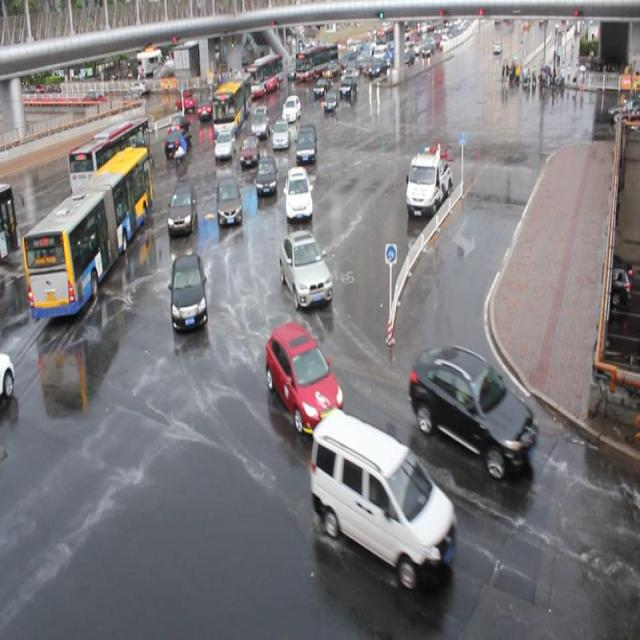bus: (404, 148, 452, 216)
car: (408, 344, 538, 480), (265, 320, 343, 433), (278, 228, 332, 306), (170, 253, 208, 330), (167, 182, 197, 232), (284, 166, 313, 217), (215, 174, 242, 224), (255, 154, 278, 193), (295, 122, 317, 162), (164, 128, 192, 154), (250, 106, 271, 138), (214, 129, 237, 158), (239, 135, 260, 165), (272, 119, 291, 148), (166, 114, 191, 136), (282, 95, 300, 122), (174, 90, 195, 113), (338, 75, 358, 96), (323, 87, 339, 111), (313, 76, 332, 95), (196, 98, 212, 120)
truck: (310, 409, 456, 589)
van: (22, 144, 154, 318), (68, 116, 151, 210), (212, 72, 251, 134), (244, 54, 284, 98)
